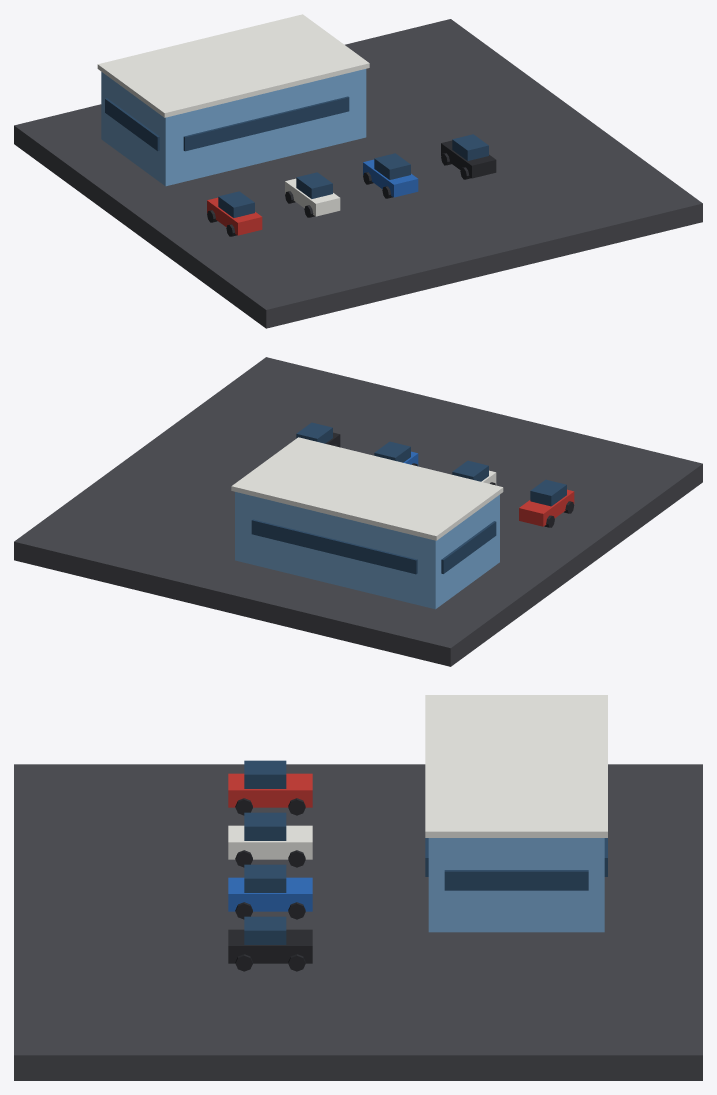
Rendered from auto_income_1.glb.
The picture shows the model from 3 angles, top to bottom: view 1: azimuth 30°, elevation 25°; view 2: azimuth 150°, elevation 25°; view 3: azimuth 270°, elevation 25°; orthographic projection. The views are drawn at different scales.
Visible parts, largest first — view 1: auto_income_1; view 2: auto_income_1; view 3: auto_income_1.
Part boxes in pixels (x1=…): auto_income_1: x1=14, y1=14, x2=702, y2=328; auto_income_1: x1=14, y1=357, x2=702, y2=666; auto_income_1: x1=14, y1=695, x2=702, y2=1080.
Bounding box in the file's own units: 1.96 × 0.4 × 1.96.
